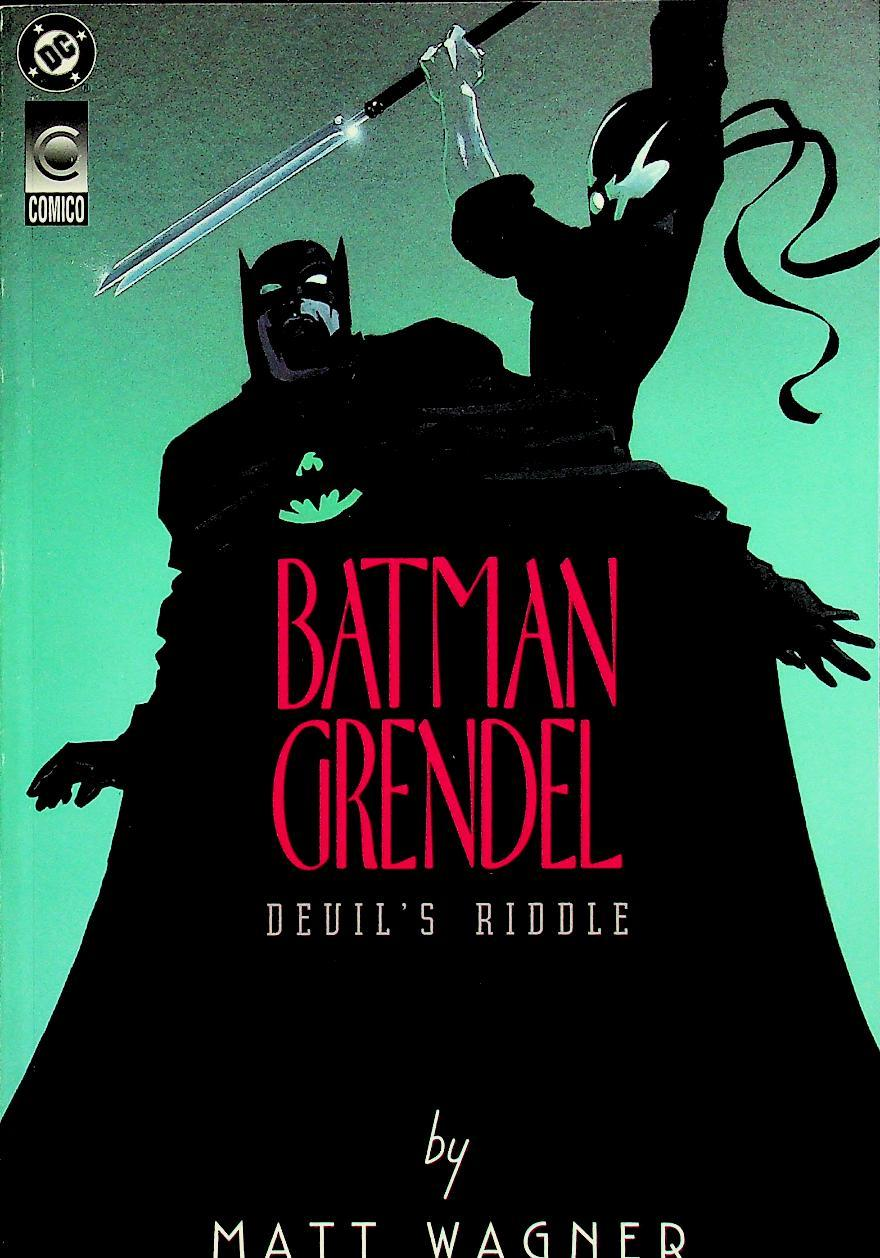comic: (2, 4, 875, 1257)
